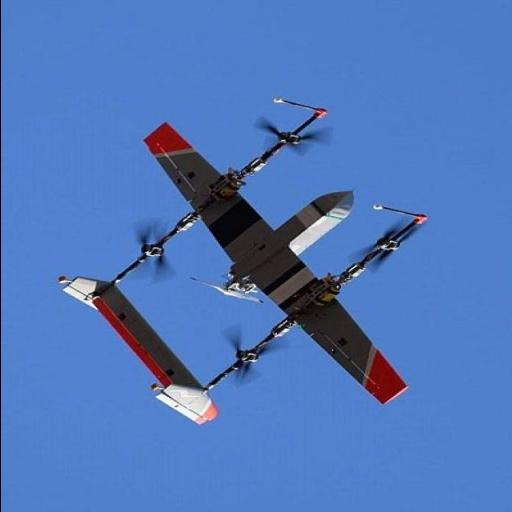uav: (73, 98, 430, 424)
